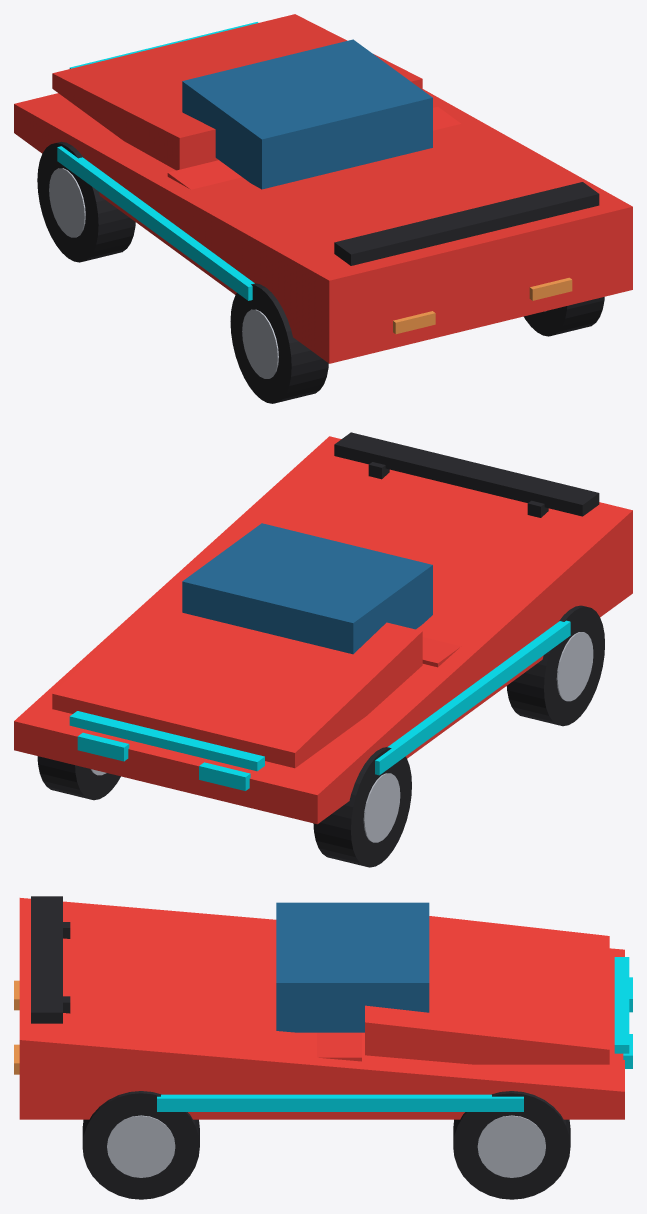
Rendered from player_sport.glb.
3 renders of one model, top to bottom at view 1: azimuth 30°, elevation 25°; view 2: azimuth 150°, elevation 25°; view 3: azimuth 270°, elevation 25°, orthographic. The views are drawn at different scales.
Visible parts, largest first — view 1: sport_wedge_body, cockpit_glass, front_hood_slope, spoiler_bar, wheel_-1.25_1.48, wheel_-1.25_-1.55, side_trim_left, rim_-1.25_1.48, rim_-1.25_-1.55, wheel_1.25_1.48, rear_body_block, tail_right (+1 smaller); view 2: sport_wedge_body, front_hood_slope, cockpit_glass, spoiler_bar, wheel_-1.25_1.48, wheel_-1.25_-1.55, side_trim_left, front_cyan_trim, wheel_1.25_-1.55, rim_-1.25_-1.55, rim_-1.25_1.48, headlight_right (+2 smaller); view 3: sport_wedge_body, front_hood_slope, cockpit_glass, wheel_1.25_1.48, side_trim_right, wheel_1.25_-1.55, spoiler_bar, rim_1.25_1.48, rim_1.25_-1.55, front_cyan_trim, rear_body_block.
Boxes of the visible parts, bbox=[...] form: sport_wedge_body: bbox=[14, 89, 632, 363]; cockpit_glass: bbox=[182, 39, 432, 189]; front_hood_slope: bbox=[52, 14, 422, 170]; spoiler_bar: bbox=[334, 182, 599, 265]; wheel_-1.25_1.48: bbox=[230, 283, 328, 403]; wheel_-1.25_-1.55: bbox=[37, 141, 135, 262]; side_trim_left: bbox=[57, 146, 254, 300]; rim_-1.25_1.48: bbox=[242, 309, 278, 378]; rim_-1.25_-1.55: bbox=[49, 168, 85, 237]; wheel_1.25_1.48: bbox=[523, 297, 604, 336]; rear_body_block: bbox=[167, 106, 460, 189]; tail_right: bbox=[529, 277, 572, 300]; sport_wedge_body: bbox=[14, 436, 632, 824]; front_hood_slope: bbox=[52, 572, 422, 768]; cockpit_glass: bbox=[182, 523, 432, 654]; spoiler_bar: bbox=[334, 432, 599, 516]; wheel_-1.25_1.48: bbox=[506, 605, 604, 726]; wheel_-1.25_-1.55: bbox=[313, 747, 411, 867]; side_trim_left: bbox=[375, 620, 570, 775]; front_cyan_trim: bbox=[69, 711, 264, 771]; wheel_1.25_-1.55: bbox=[37, 756, 120, 800]; rim_-1.25_-1.55: bbox=[363, 773, 400, 842]; rim_-1.25_1.48: bbox=[556, 632, 593, 701]; headlight_right: bbox=[77, 732, 129, 761]; sport_wedge_body: bbox=[19, 898, 624, 1119]; front_hood_slope: bbox=[365, 916, 609, 1064]; cockpit_glass: bbox=[276, 902, 429, 1032]; wheel_1.25_1.48: bbox=[82, 1091, 199, 1199]; side_trim_right: bbox=[157, 1094, 523, 1111]; wheel_1.25_-1.55: bbox=[453, 1091, 570, 1199]; spoiler_bar: bbox=[31, 896, 62, 1023]; rim_1.25_1.48: bbox=[107, 1115, 175, 1177]; rim_1.25_-1.55: bbox=[477, 1115, 545, 1177]; front_cyan_trim: bbox=[614, 957, 629, 1053]; rear_body_block: bbox=[317, 1032, 361, 1061].
Size of the model in its own units: 2.92 by 1.66 by 5.06.
